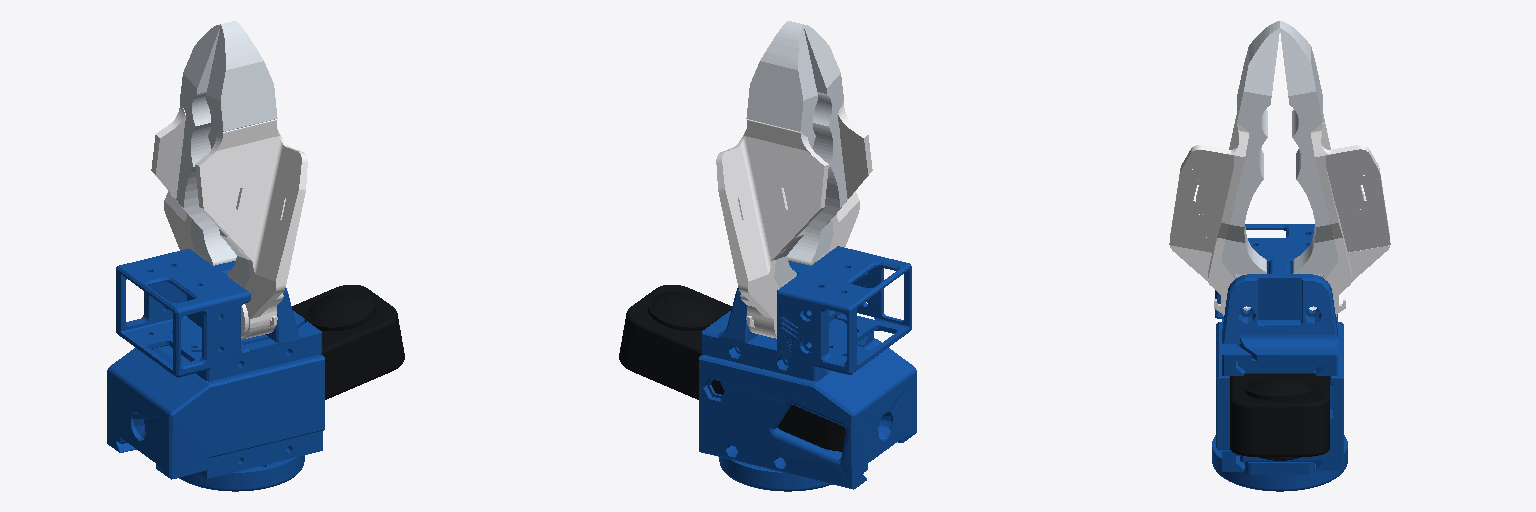
robot.urdf — pg_chopstick_openarm:
<?xml version="1.0"?>
<!-- PG Chopstick, generated by chopstick/cad/urdf.py. Units: m, rad. -->
<robot name="pg_chopstick_openarm">
  <material name="pg_blue"><color rgba="0.12 0.37 0.68 1"/></material>
  <material name="pg_white"><color rgba="0.96 0.96 0.97 1"/></material>
  <material name="tpu"><color rgba="0.87 0.9 0.93 1"/></material>
  <material name="camera"><color rgba="0.11 0.12 0.13 1"/></material>
  <link name="chopstick_flange"/>
  <link name="chopstick_base">
    <visual name="chopstick_base_sa"><origin xyz="0 0 0" rpy="0 0 0"/><geometry><mesh filename="meshes/chopstick_base_sa.stl" scale="0.001 0.001 0.001"/></geometry><material name="pg_blue"/></visual>
    <collision name="chopstick_base_sa"><origin xyz="0 0 0" rpy="0 0 0"/><geometry><mesh filename="meshes/chopstick_base_sa.stl" scale="0.001 0.001 0.001"/></geometry></collision>
    <visual name="chopstick_clip_sa"><origin xyz="0 0 0" rpy="0 0 0"/><geometry><mesh filename="meshes/chopstick_clip_sa.stl" scale="0.001 0.001 0.001"/></geometry><material name="pg_blue"/></visual>
    <collision name="chopstick_clip_sa"><origin xyz="0 0 0" rpy="0 0 0"/><geometry><mesh filename="meshes/chopstick_clip_sa.stl" scale="0.001 0.001 0.001"/></geometry></collision>
    <visual name="x5_frame"><origin xyz="0 0 0" rpy="0 0 0"/><geometry><mesh filename="meshes/x5_frame.stl" scale="0.001 0.001 0.001"/></geometry><material name="pg_blue"/></visual>
    <collision name="x5_frame"><origin xyz="0 0 0" rpy="0 0 0"/><geometry><mesh filename="meshes/x5_frame.stl" scale="0.001 0.001 0.001"/></geometry></collision>
    <visual name="x5_clip_b"><origin xyz="0 0 0" rpy="0 0 0"/><geometry><mesh filename="meshes/x5_clip_b.stl" scale="0.001 0.001 0.001"/></geometry><material name="pg_blue"/></visual>
    <collision name="x5_clip_b"><origin xyz="0 0 0" rpy="0 0 0"/><geometry><mesh filename="meshes/x5_clip_b.stl" scale="0.001 0.001 0.001"/></geometry></collision>
    <visual name="openarm_adapter"><origin xyz="0 0 0" rpy="0 0 0"/><geometry><mesh filename="meshes/openarm_adapter.stl" scale="0.001 0.001 0.001"/></geometry><material name="pg_blue"/></visual>
    <collision name="openarm_adapter"><origin xyz="0 0 0" rpy="0 0 0"/><geometry><mesh filename="meshes/openarm_adapter.stl" scale="0.001 0.001 0.001"/></geometry></collision>
    <visual name="insta360_x5_envelope"><origin xyz="0 0 0" rpy="0 0 0"/><geometry><mesh filename="meshes/insta360_x5_envelope.stl" scale="0.001 0.001 0.001"/></geometry><material name="camera"/></visual>
    <collision name="insta360_x5_envelope"><origin xyz="0 0 0" rpy="0 0 0"/><geometry><mesh filename="meshes/insta360_x5_envelope.stl" scale="0.001 0.001 0.001"/></geometry></collision>
    <visual name="servo_envelope"><origin xyz="0 0 0" rpy="0 0 0"/><geometry><mesh filename="meshes/servo_envelope.stl" scale="0.001 0.001 0.001"/></geometry><material name="camera"/></visual>
    <collision name="servo_envelope"><origin xyz="0 0 0" rpy="0 0 0"/><geometry><mesh filename="meshes/servo_envelope.stl" scale="0.001 0.001 0.001"/></geometry></collision>
    <inertial><origin xyz="0.0392585 0.000861439 -0.00381956" rpy="0 0 0"/><mass value="0.48373"/><inertia ixx="0.0006277" ixy="-1.174e-05" ixz="0.0001246" iyy="0.0008232" iyz="1.219e-05" izz="0.0004008"/></inertial>
  </link>
  <link name="chopstick_jaw_left">
    <visual name="jaw_left_sa"><origin xyz="0 0 0" rpy="0 0 0"/><geometry><mesh filename="meshes/jaw_left_sa_jawframe.stl" scale="0.001 0.001 0.001"/></geometry><material name="pg_white"/></visual>
    <collision name="jaw_left_sa"><origin xyz="0 0 0" rpy="0 0 0"/><geometry><mesh filename="meshes/jaw_left_sa_jawframe.stl" scale="0.001 0.001 0.001"/></geometry></collision>
    <visual name="tip_tpu_left"><origin xyz="0 0 0" rpy="0 0 0"/><geometry><mesh filename="meshes/tip_tpu_left_jawframe.stl" scale="0.001 0.001 0.001"/></geometry><material name="tpu"/></visual>
    <collision name="tip_tpu_left"><origin xyz="0 0 0" rpy="0 0 0"/><geometry><mesh filename="meshes/tip_tpu_left_jawframe.stl" scale="0.001 0.001 0.001"/></geometry></collision>
    <inertial><origin xyz="0.0644882 0.00198443 -0.00308682" rpy="0 0 0"/><mass value="0.049091"/><inertia ixx="6.696e-06" ixy="7.42e-06" ixz="8.384e-07" iyy="6.992e-05" iyz="-4.065e-07" izz="7.082e-05"/></inertial>
  </link>
  <link name="chopstick_tip_left"/>
  <link name="chopstick_jaw_right">
    <visual name="jaw_right"><origin xyz="0 0 0" rpy="0 0 0"/><geometry><mesh filename="meshes/jaw_right_jawframe.stl" scale="0.001 0.001 0.001"/></geometry><material name="pg_white"/></visual>
    <collision name="jaw_right"><origin xyz="0 0 0" rpy="0 0 0"/><geometry><mesh filename="meshes/jaw_right_jawframe.stl" scale="0.001 0.001 0.001"/></geometry></collision>
    <visual name="tip_tpu_right"><origin xyz="0 0 0" rpy="0 0 0"/><geometry><mesh filename="meshes/tip_tpu_right_jawframe.stl" scale="0.001 0.001 0.001"/></geometry><material name="tpu"/></visual>
    <collision name="tip_tpu_right"><origin xyz="0 0 0" rpy="0 0 0"/><geometry><mesh filename="meshes/tip_tpu_right_jawframe.stl" scale="0.001 0.001 0.001"/></geometry></collision>
    <inertial><origin xyz="0.0648709 -0.00196465 -0.00300603" rpy="0 0 0"/><mass value="0.048723"/><inertia ixx="6.645e-06" ixy="-7.43e-06" ixz="1.141e-06" iyy="6.876e-05" iyz="3.844e-07" izz="6.963e-05"/></inertial>
  </link>
  <link name="chopstick_tip_right"/>
  <link name="chopstick_camera"/>
  <link name="chopstick_tcp"/>
  <joint name="chopstick_mount_joint" type="fixed"><parent link="chopstick_flange"/><child link="chopstick_base"/><origin xyz="0 0 0.1095" rpy="3.14159265 -1.57079633 0"/></joint>
  <joint name="chopstick_jaw" type="revolute">
    <parent link="chopstick_base"/><child link="chopstick_jaw_left"/>
    <origin xyz="0.06733 0.015 0" rpy="0 0 0"/><axis xyz="0 0 1"/>
    <limit lower="0.00000" upper="1.25664" effort="4" velocity="6"/>
  </joint>
  <joint name="chopstick_tip_left_joint" type="fixed"><parent link="chopstick_jaw_left"/><child link="chopstick_tip_left"/><origin xyz="0.137417 -0.015085 -0.003671" rpy="0 0 0"/></joint>
  <joint name="chopstick_jaw_right" type="revolute">
    <parent link="chopstick_base"/><child link="chopstick_jaw_right"/>
    <origin xyz="0.06733 -0.015 0" rpy="0 0 0"/><axis xyz="0 0 1"/>
    <limit lower="-1.25664" upper="0.00000" effort="4" velocity="6"/>
    <mimic joint="chopstick_jaw" multiplier="-1" offset="0"/>
  </joint>
  <joint name="chopstick_tip_right_joint" type="fixed"><parent link="chopstick_jaw_right"/><child link="chopstick_tip_right"/><origin xyz="0.137417 0.015085 -0.003671" rpy="0 0 0"/></joint>
  <joint name="chopstick_camera_joint" type="fixed"><parent link="chopstick_base"/><child link="chopstick_camera"/><origin xyz="0.034420877 0 0.057" rpy="0 0.174532726 0"/></joint>
  <joint name="chopstick_tcp_joint" type="fixed"><parent link="chopstick_base"/><child link="chopstick_tcp"/><origin xyz="0.204747 0 -0.003671" rpy="0 0 0"/></joint>
</robot>

--- Facts derived from the render (not from the file) ---
The picture shows the robot from 3 angles, left to right: view 1: azimuth 30°, elevation 25°; view 2: azimuth 150°, elevation 25°; view 3: azimuth 270°, elevation 25°; orthographic projection.
Model pg_chopstick_openarm with 8 links and 7 joints (2 revolute, 5 fixed), rooted at chopstick_flange, posed every joint at zero.
Links seen in each view (by area): view 1: chopstick_base, chopstick_jaw_left, chopstick_jaw_right; view 2: chopstick_base, chopstick_jaw_right, chopstick_jaw_left; view 3: chopstick_base, chopstick_jaw_right, chopstick_jaw_left.
Boxes of the visible links, box(x1,y1,x2,y2) form: chopstick_base: box(107, 249, 404, 491); chopstick_jaw_left: box(195, 21, 307, 339); chopstick_jaw_right: box(151, 24, 236, 265); chopstick_base: box(619, 246, 916, 491); chopstick_jaw_right: box(716, 21, 828, 338); chopstick_jaw_left: box(787, 24, 872, 265); chopstick_base: box(1212, 224, 1347, 491); chopstick_jaw_right: box(1280, 21, 1390, 316); chopstick_jaw_left: box(1169, 21, 1279, 315).
Bounding box of the posed robot: 0.1302 × 0.1008 × 0.2197 m (x, y, z).
10 mesh visuals loaded from 11 distinct referenced files (10 binary STL); not drawn: 1 (reference not matched to a file when rendering).
